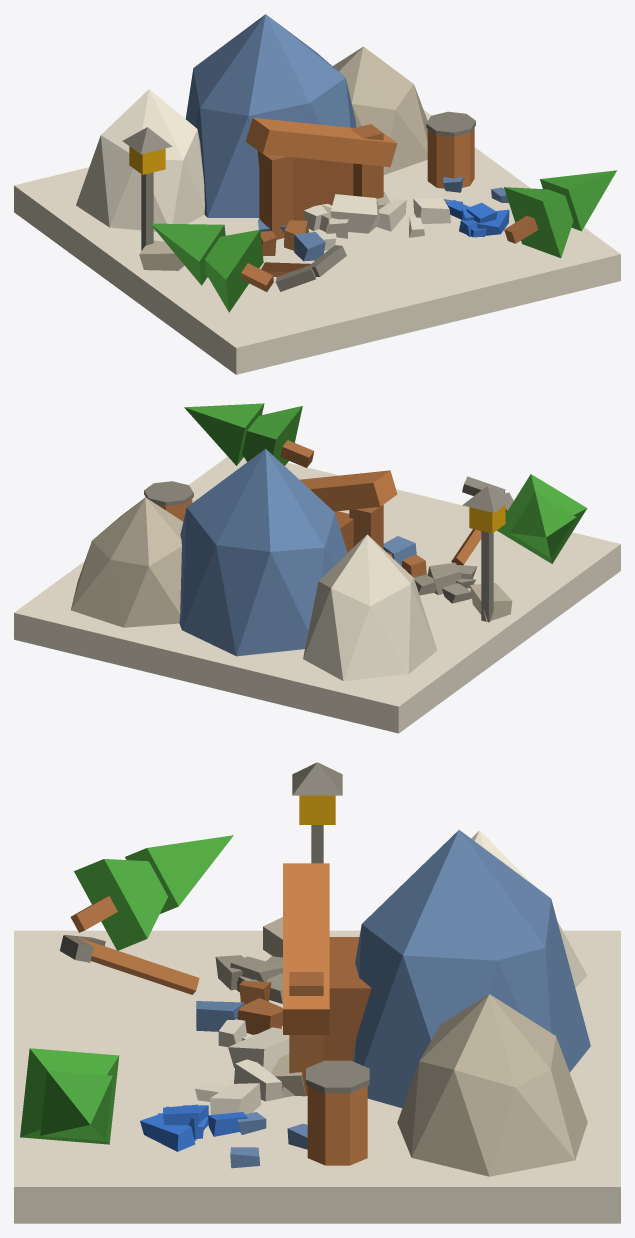
File: mine_t1_v3_dmg1.glb
3 renders of one model, top to bottom at view 1: azimuth 30°, elevation 25°; view 2: azimuth 150°, elevation 25°; view 3: azimuth 270°, elevation 25°, orthographic. The views are drawn at different scales.
Parts seen in each view (by area): view 1: mine_t1_v3_dmg1; view 2: mine_t1_v3_dmg1; view 3: mine_t1_v3_dmg1.
Boxes of the visible parts, x1,y1,x2,y2 form: mine_t1_v3_dmg1: (14,14,620,374); mine_t1_v3_dmg1: (14,403,620,733); mine_t1_v3_dmg1: (14,762,620,1223).
Size of the model in its own units: 0.647 by 0.29 by 0.6.
Materials: 1 (1 with a texture image).
